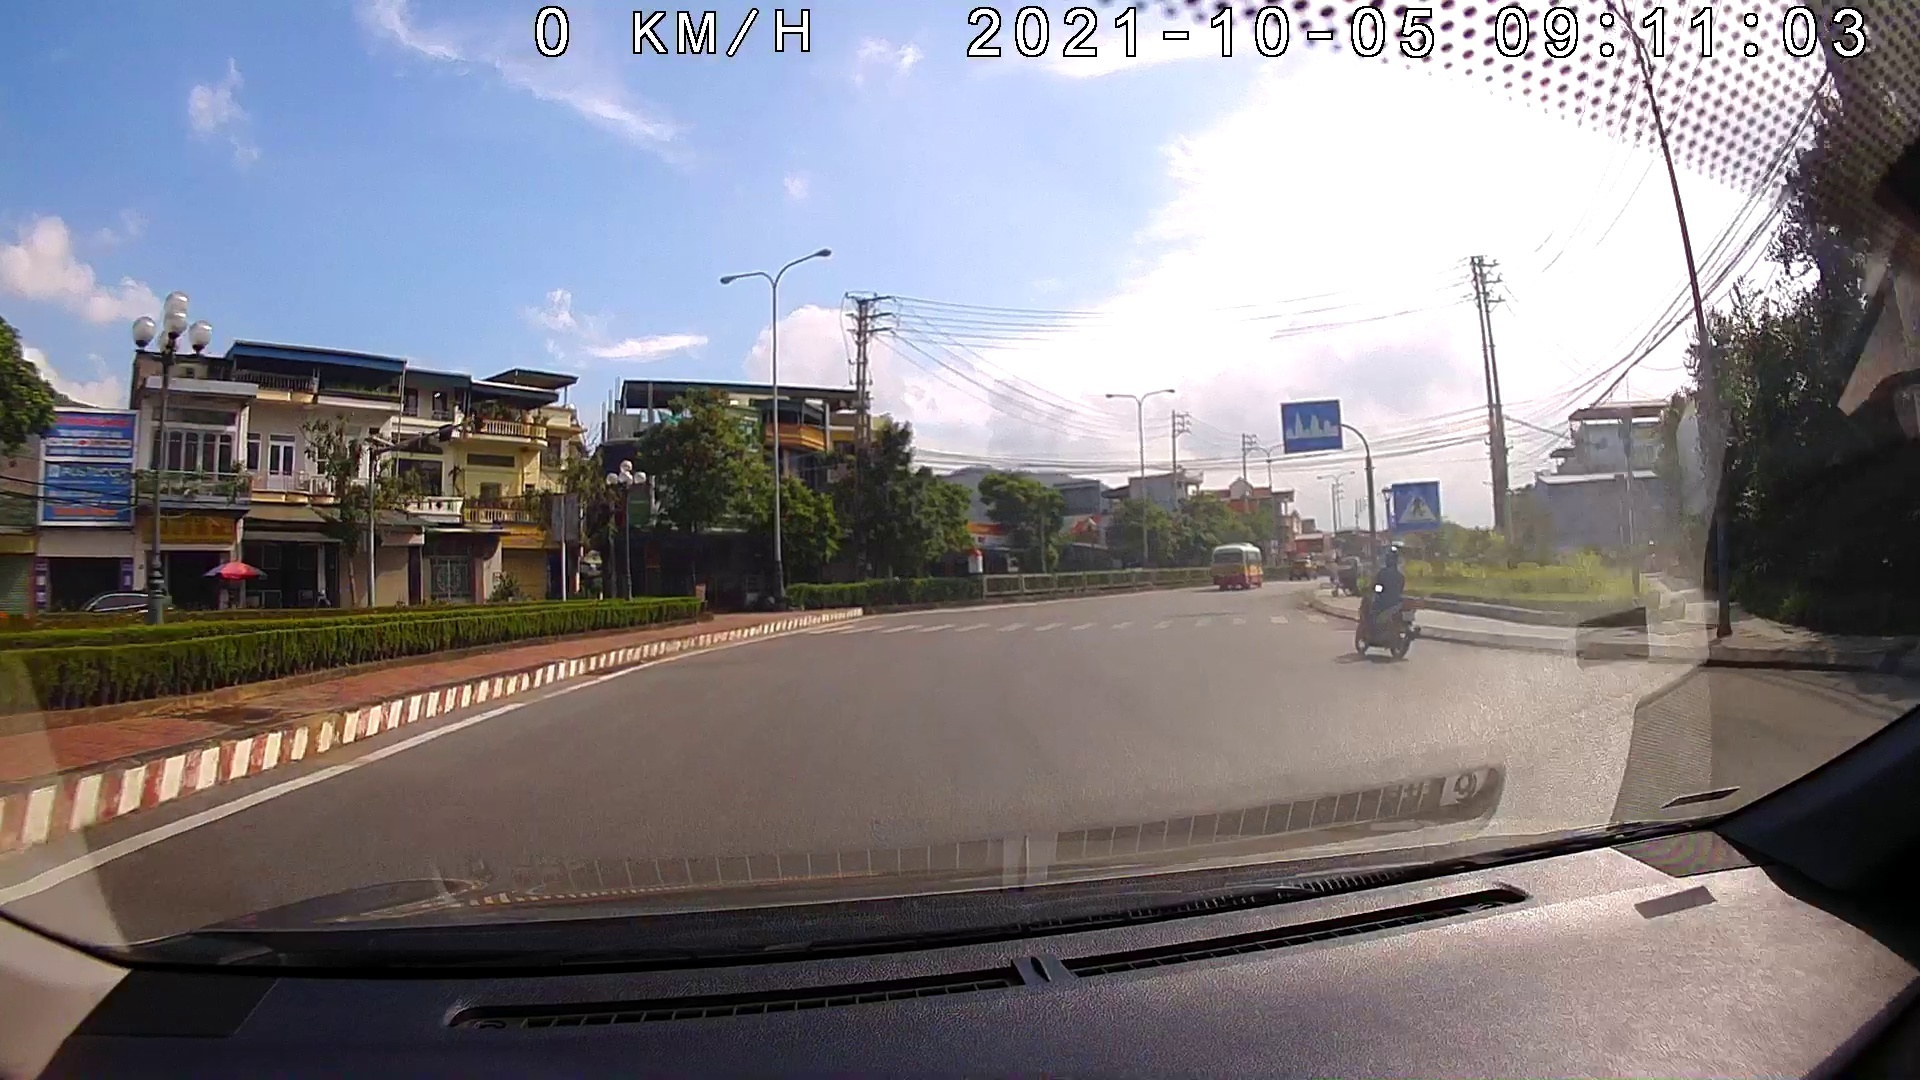Bien khac: (1282, 397, 1342, 452)
Nguoi di bo: (1390, 481, 1441, 526)
